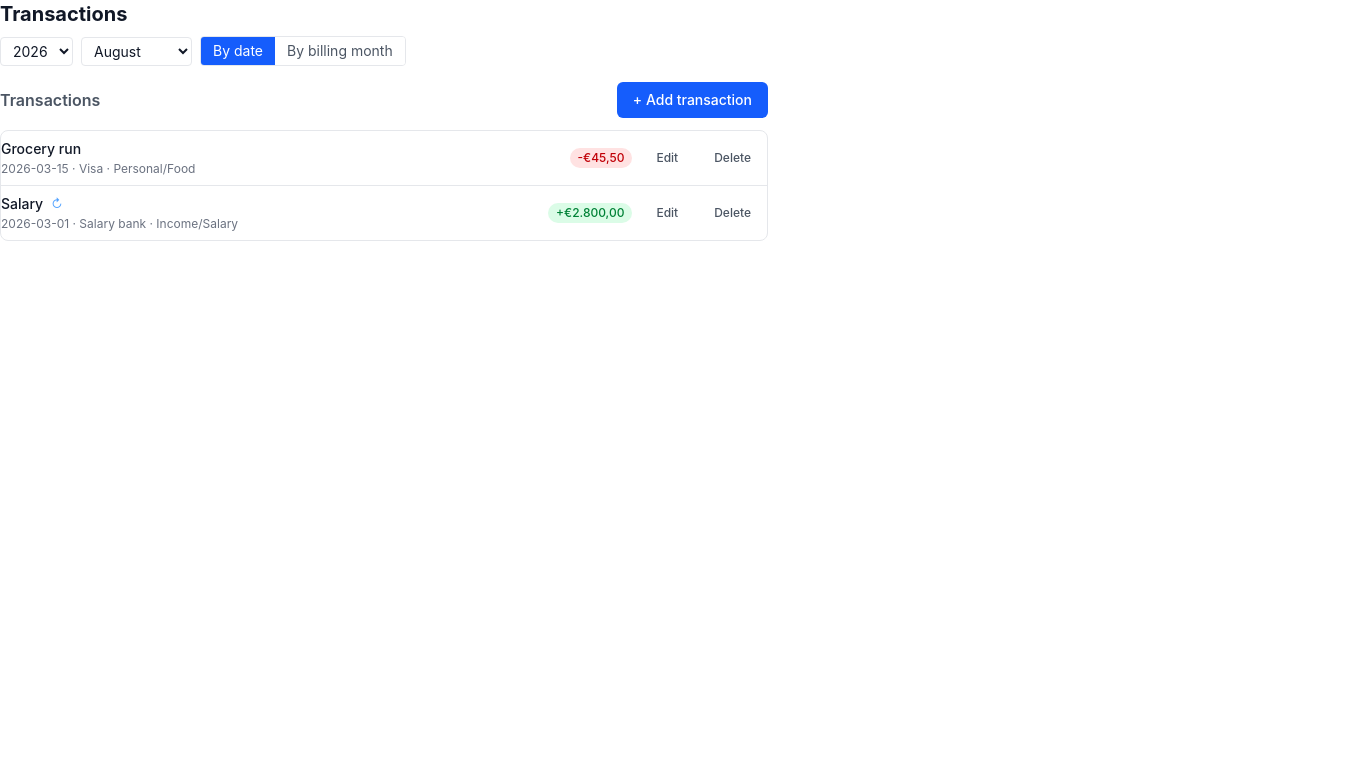
TransactionsPage delete button opens cascade modal
The image size is (1366, 768).
Expected: the text "Grocery run" is shown, [1,139,81,159]
Click the button "Delete" in the row of "Grocery run": (733, 158) [698,142,767,174]
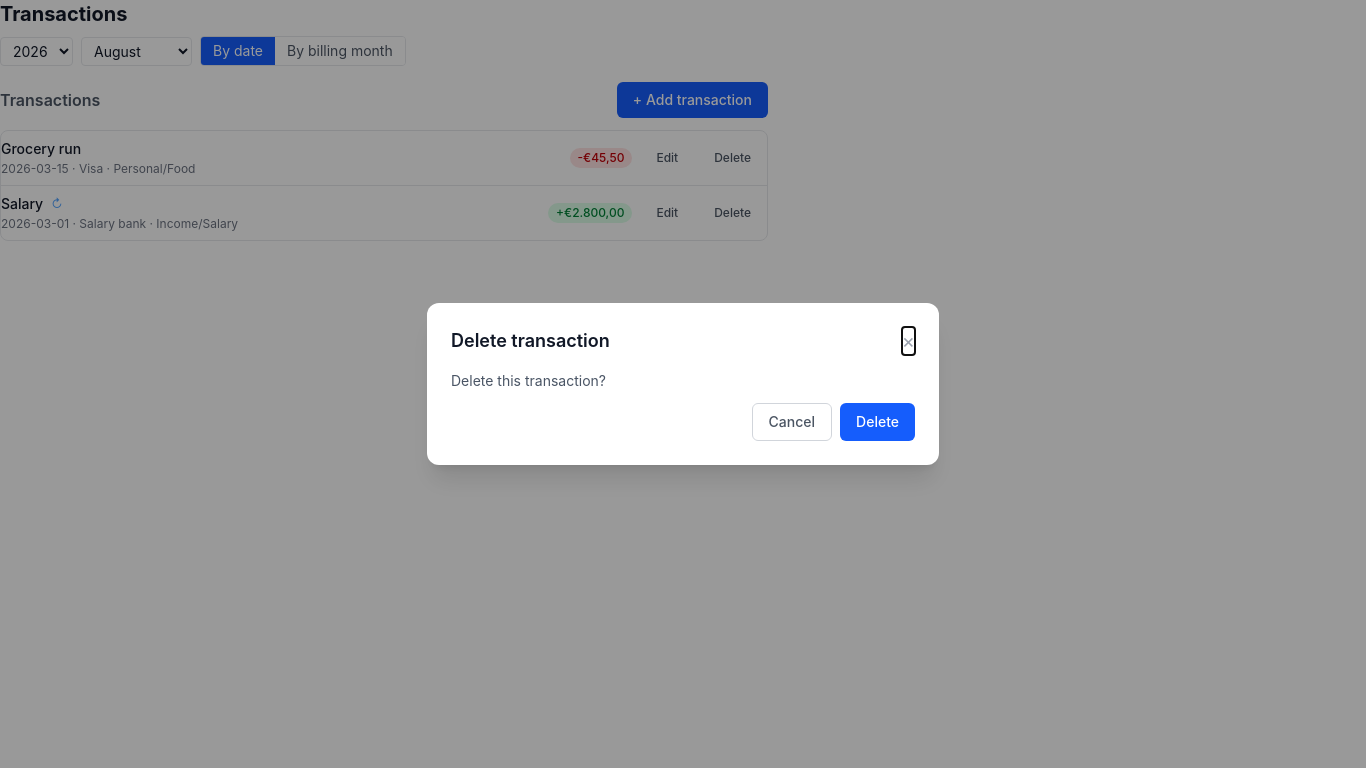
Expected: the dialog is shown, [427,303,939,465]
Expected: the heading "Delete transaction" is shown, [451,327,610,355]
Expected: the text "Delete this transaction?" is shown, [451,372,606,389]
